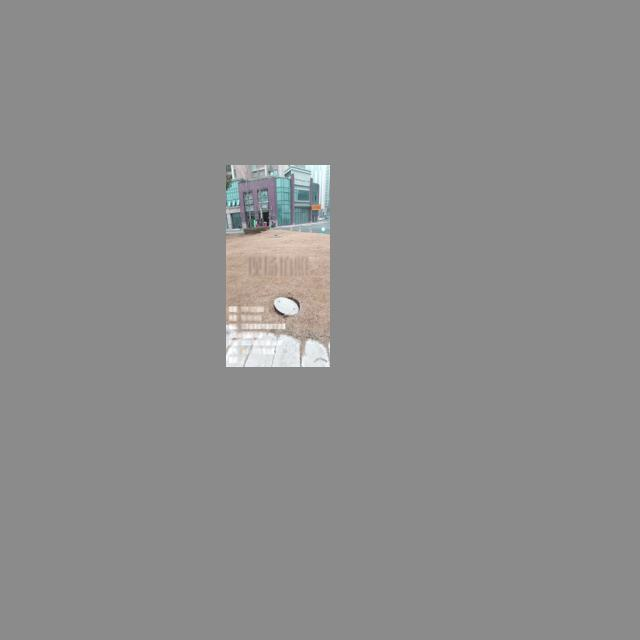uncovered: (273, 296, 299, 315)
